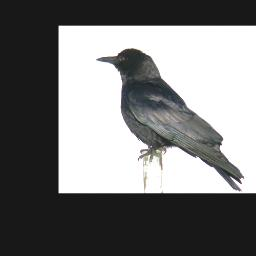Crow: (94, 47, 245, 193)
